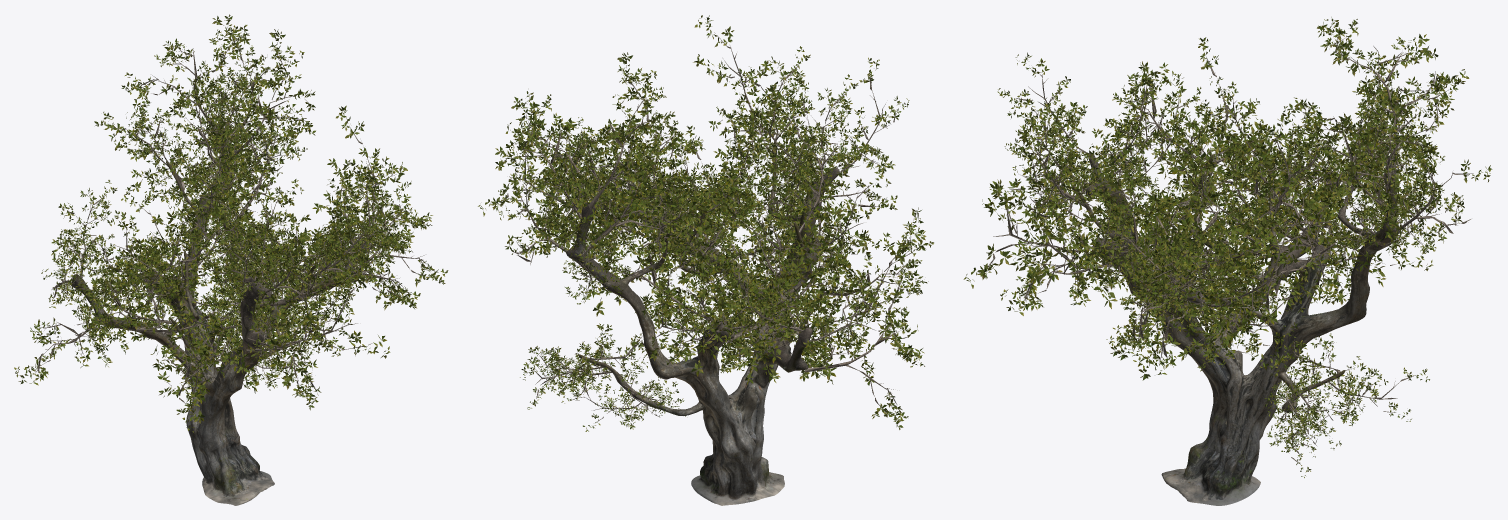
File: island_tree_01.glb
The picture shows the model from 3 angles, left to right: view 1: azimuth 30°, elevation 25°; view 2: azimuth 150°, elevation 25°; view 3: azimuth 270°, elevation 25°; orthographic projection. The views are drawn at different scales.
Visible parts, largest first — view 1: island_tree_01_LOD1.002, island_tree_01_LOD1.001, island_tree_01_LOD1.003; view 2: island_tree_01_LOD1.002, island_tree_01_LOD1.001, island_tree_01_LOD1.003; view 3: island_tree_01_LOD1.002, island_tree_01_LOD1.003, island_tree_01_LOD1.001.
Boxes of the visible parts, bbox=[...] form: island_tree_01_LOD1.002: bbox=[14, 14, 448, 433]; island_tree_01_LOD1.001: bbox=[35, 23, 429, 418]; island_tree_01_LOD1.003: bbox=[71, 127, 369, 505]; island_tree_01_LOD1.002: bbox=[478, 15, 933, 431]; island_tree_01_LOD1.001: bbox=[499, 32, 914, 422]; island_tree_01_LOD1.003: bbox=[566, 140, 839, 505]; island_tree_01_LOD1.002: bbox=[963, 17, 1492, 477]; island_tree_01_LOD1.003: bbox=[1072, 145, 1399, 505]; island_tree_01_LOD1.001: bbox=[988, 30, 1473, 464].
Size of the model in its own units: 4.76 by 5.03 by 4.82.
3 materials, 3 textured.
